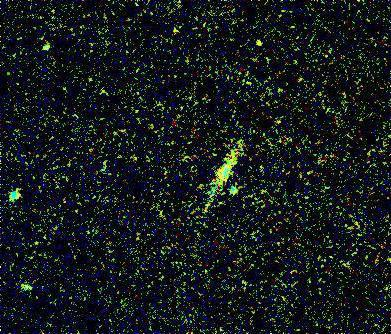star: (250, 22, 280, 52)
